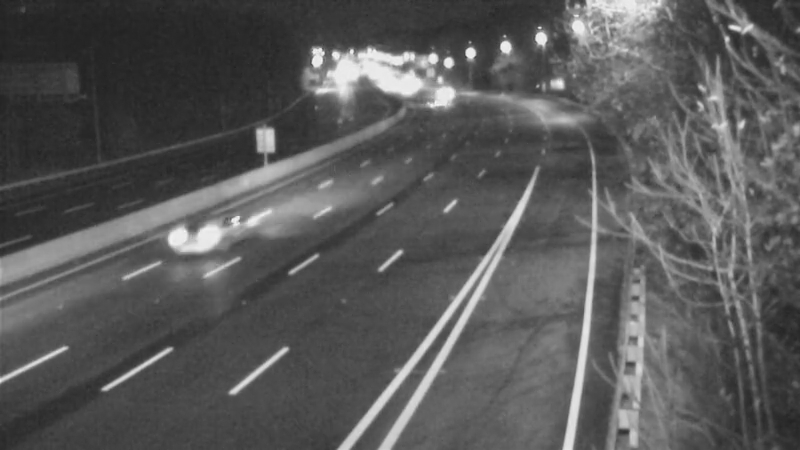vehicle: (146, 196, 226, 276), (411, 77, 461, 127)
